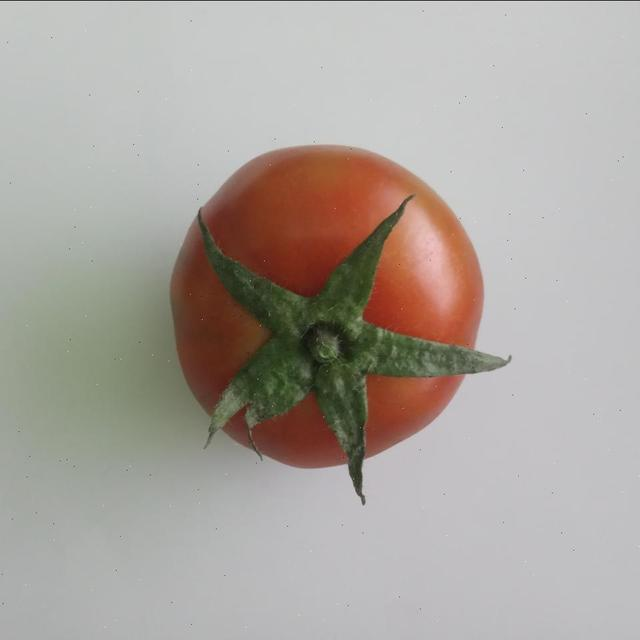Healthy Fruit: (109, 93, 328, 315)
